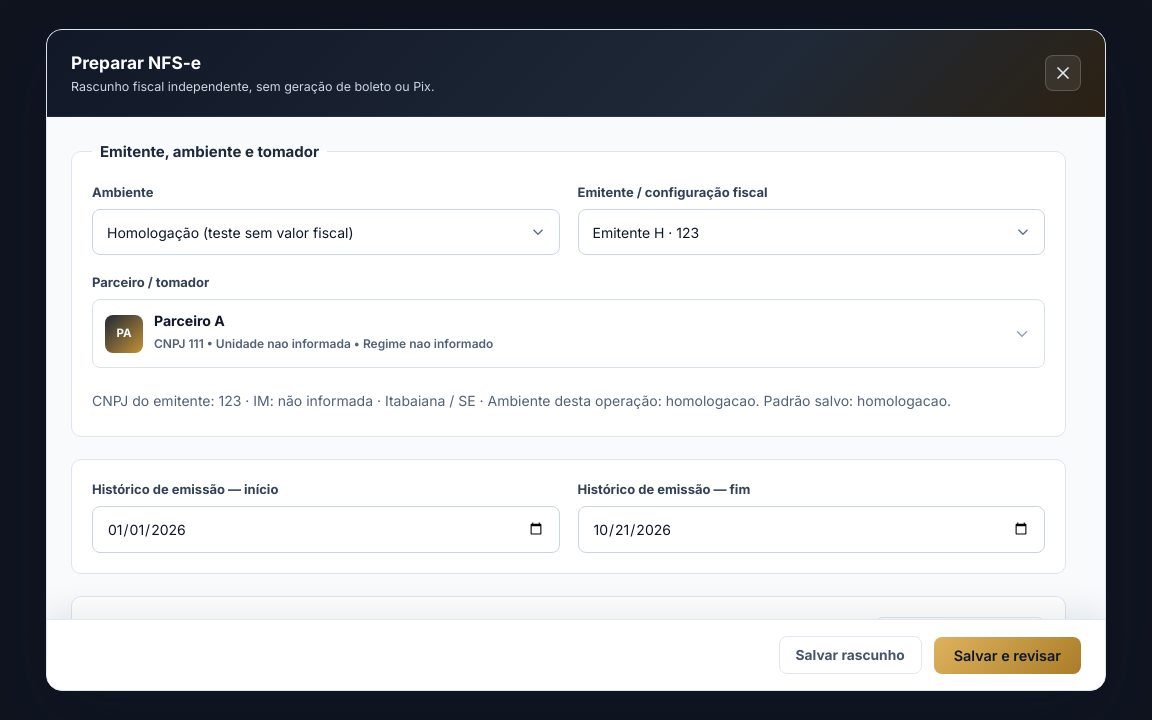
Preparação NFS-e independente › bloqueia edição e transmissão ao retomar tentativa processada em outro ambiente
Select "Produção (somente preparação)" in the dropdown labelled "Ambiente" at (326, 232), box [92,209,560,255]
(page scrolled)
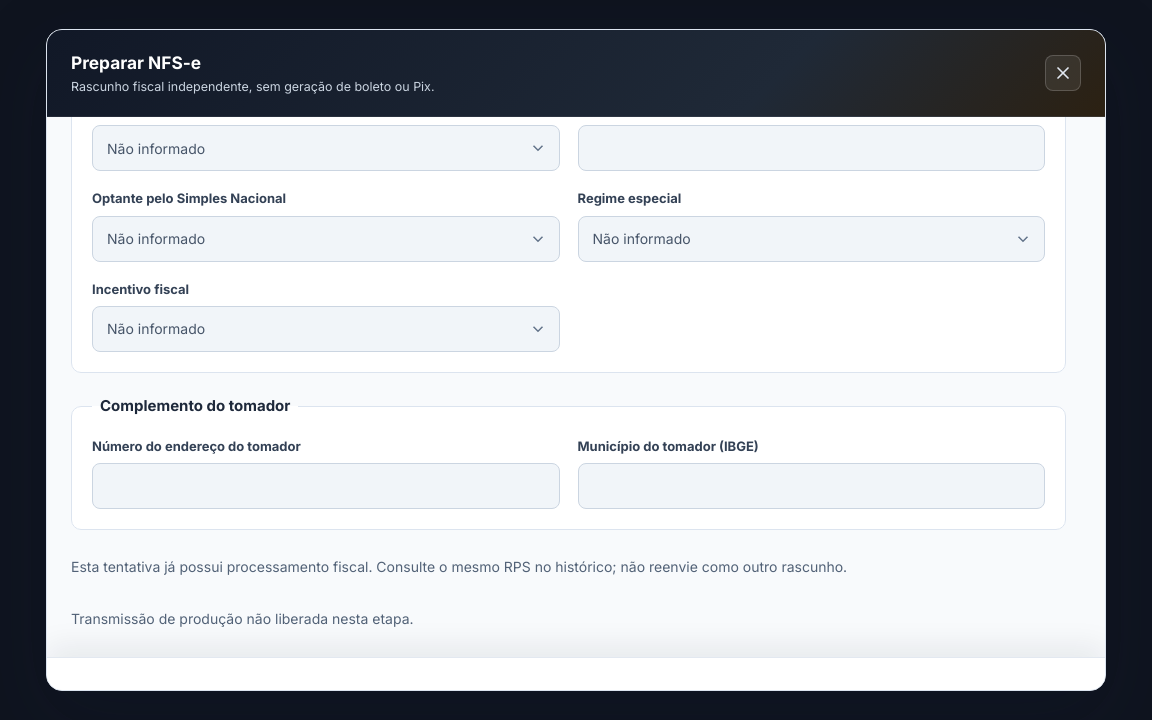
Now the text "Esta tentativa já possui processamento fiscal" is shown, box [71,558,847,576]
Now the button "Salvar rascunho" is gone
